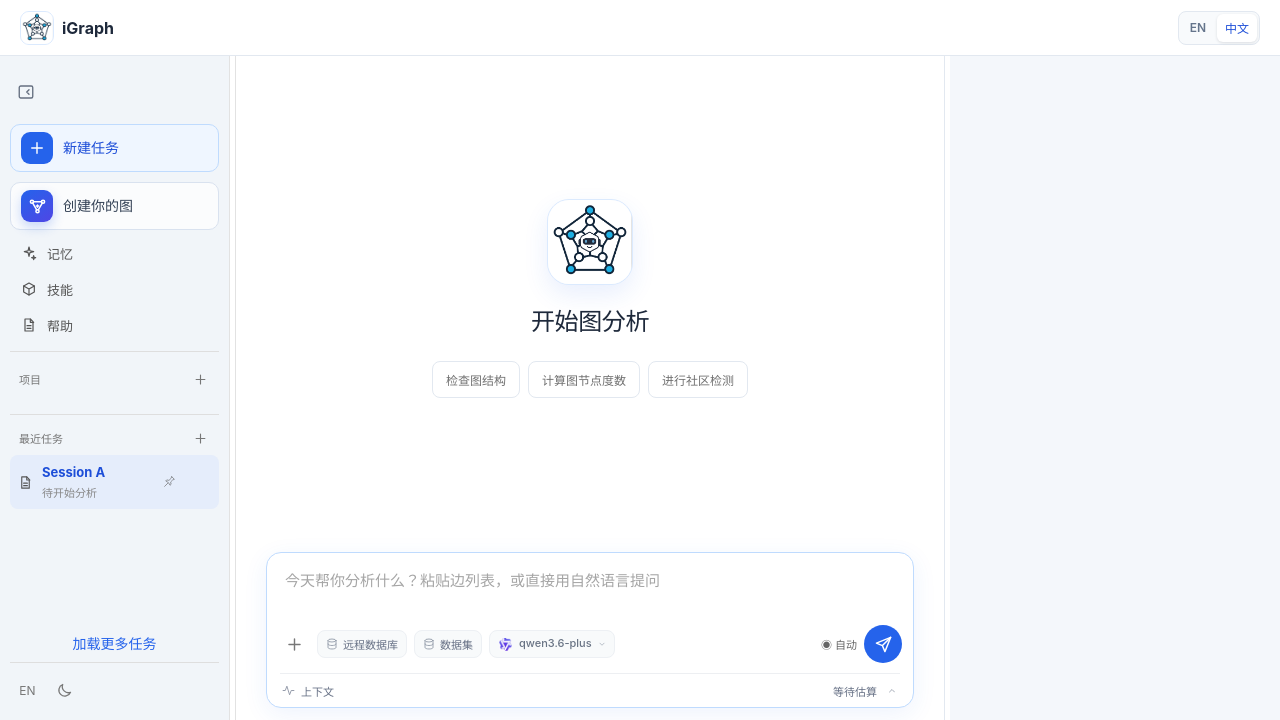
loads older task pages, merges duplicates and retries a failed page
Expected: the text box with placeholder "今天帮你分析什么？粘贴边列表，或直接用自然语言提问" is shown, [267,553,913,625]
Click the button "加载更多任务" at (114, 643), box [22,632,207,654]
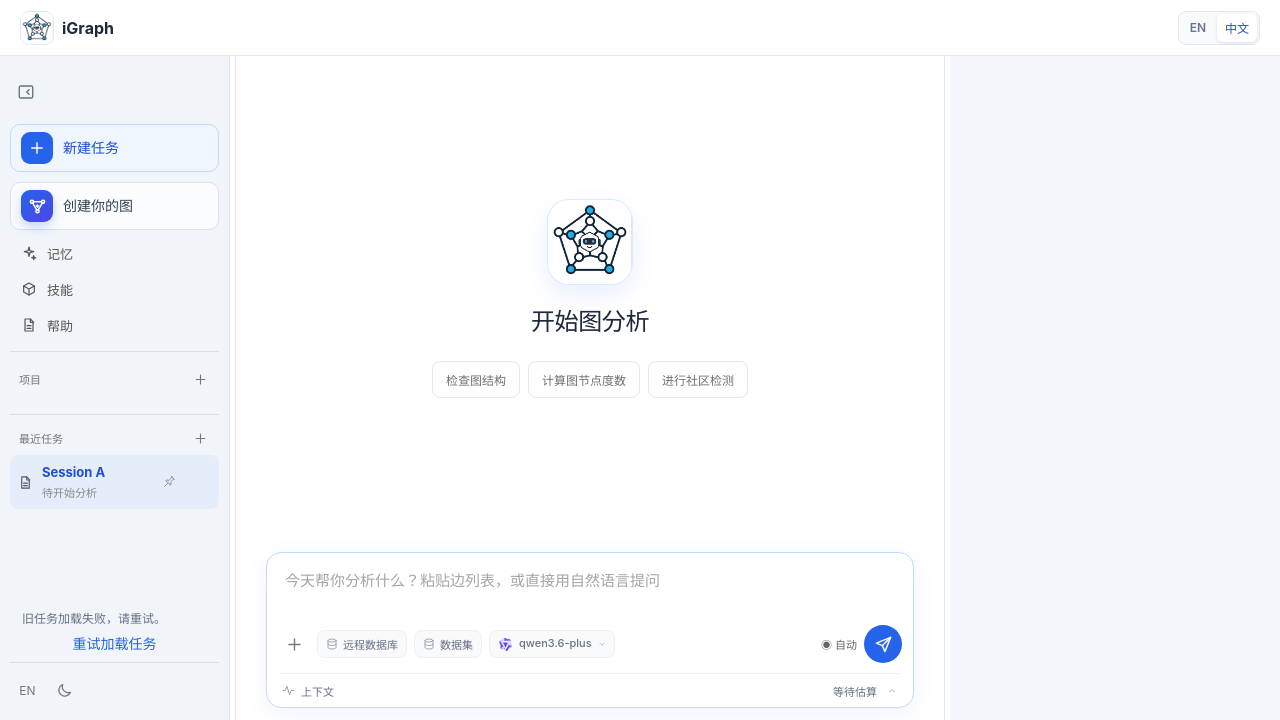
Click the button "重试加载任务" at (114, 643), box [22,632,207,654]
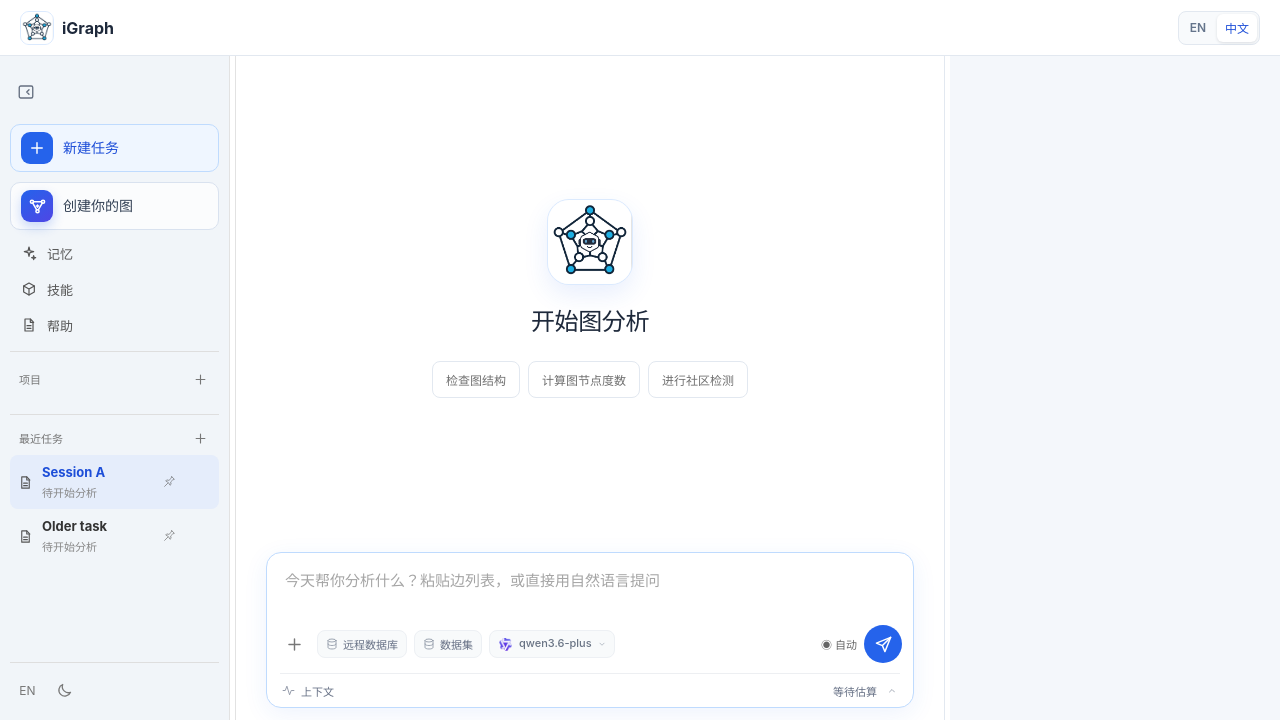
Expected: the button "加载更多任务" is not shown
Expected: the text "Older task" is shown, [42,518,107,534]
Expected: the text "Session A" is shown once, [42,464,105,480]
